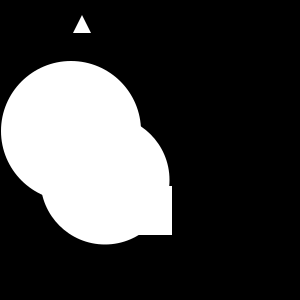circle: (123, 186, 172, 235)
rectangle: (1, 61, 141, 201), (40, 116, 169, 244)
triangle: (73, 15, 91, 33)
